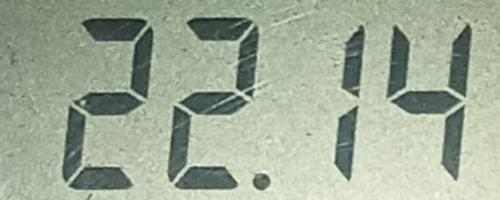.: (250, 172, 274, 195)
